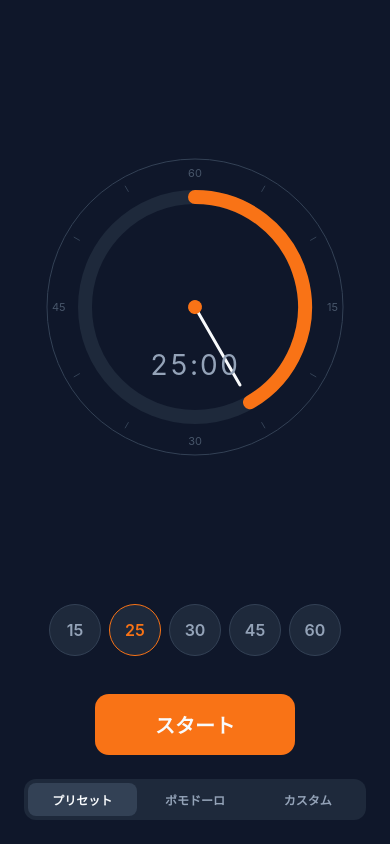
Test: TimerScreen › ポモドーロタブに切り替えるとPomodoroConfigが表示される
Click the text "ポモドーロ" at [195, 800], box [165,791,225,808]
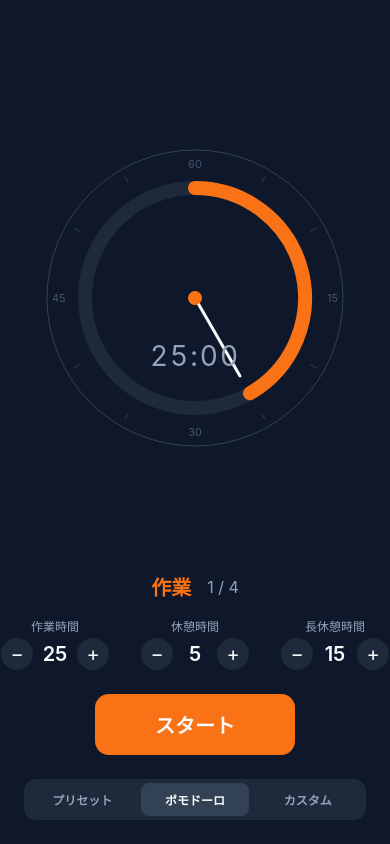
Expected: the text "作業" is shown, [151,572,191,601]
